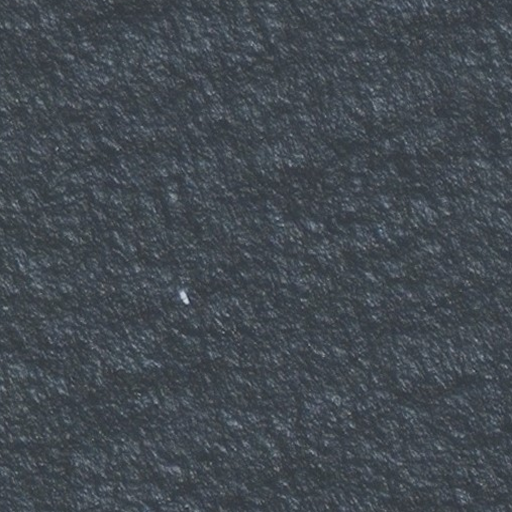ship: (177, 288, 192, 308)
